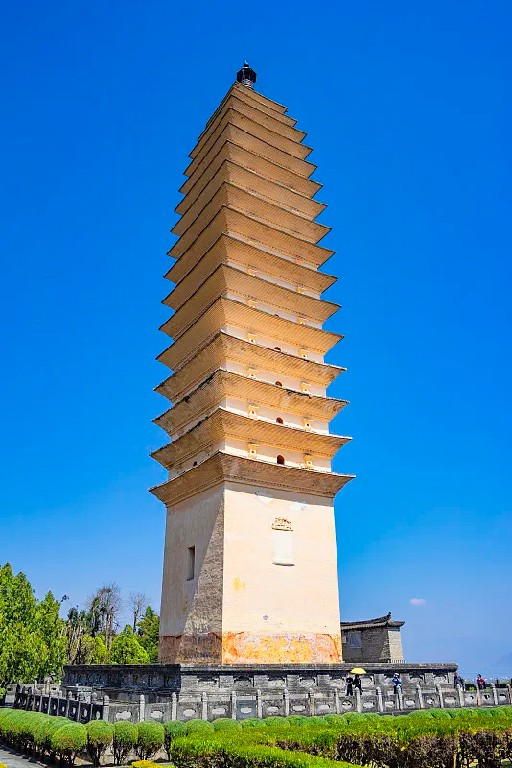ThreePagoda: (148, 62, 356, 663)
